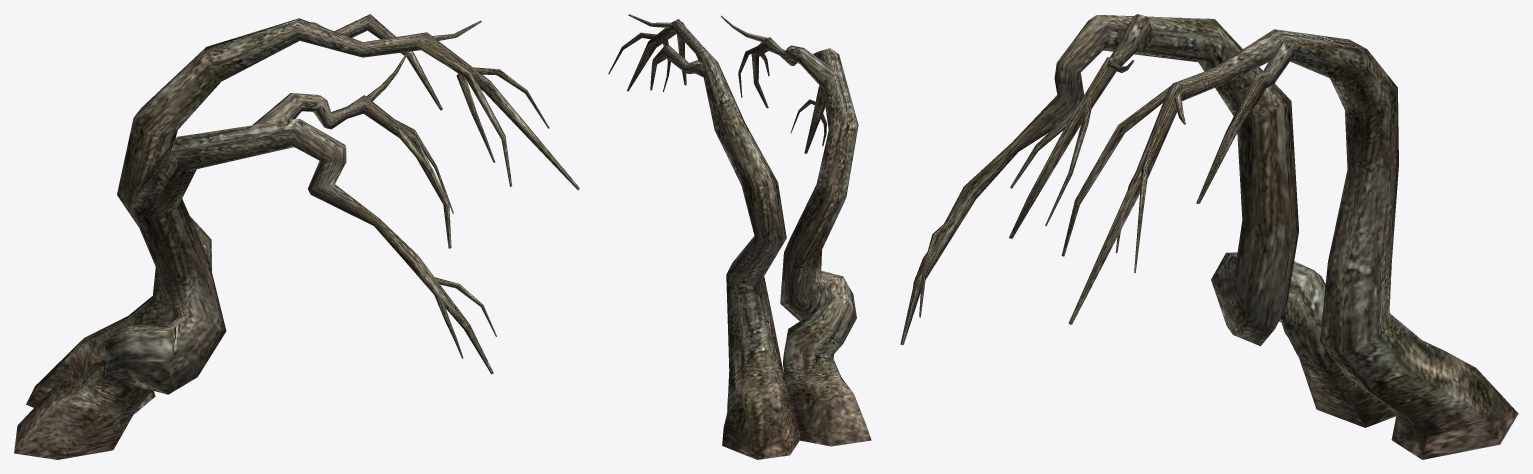
Rendered from deadwood_05.fbx.
3 renders of one model, left to right at view 1: azimuth 30°, elevation 25°; view 2: azimuth 150°, elevation 25°; view 3: azimuth 270°, elevation 25°, orthographic. The views are drawn at different scales.
Visible parts, largest first — view 1: deadwood_05; view 2: deadwood_05; view 3: deadwood_05.
Boxes of the visible parts, left/top/right/bottom form: deadwood_05: left=14, top=14, right=579, bottom=459; deadwood_05: left=608, top=14, right=871, bottom=459; deadwood_05: left=900, top=14, right=1518, bottom=459.
Size of the model in its own units: 15.64 by 13.69 by 16.06.
